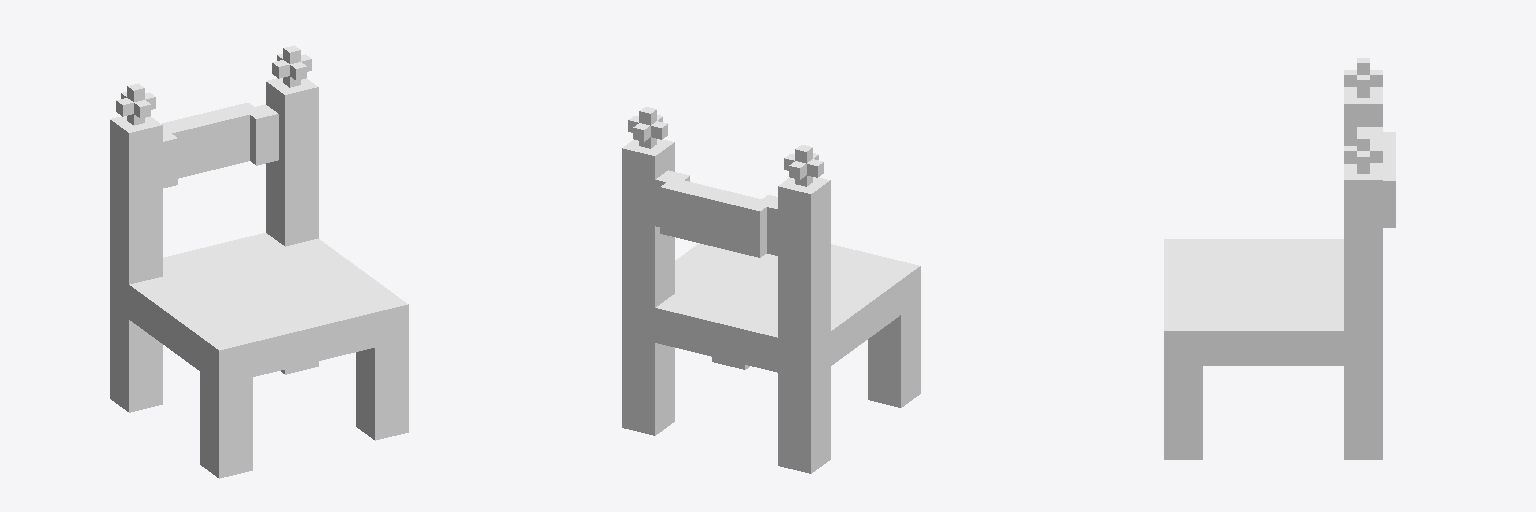
Rendered from Chair.obj.
3 views of the same model, side by side, from view 1: azimuth 30°, elevation 25°; view 2: azimuth 150°, elevation 25°; view 3: azimuth 270°, elevation 25° (orthographic).
Bounding box in the file's own units: 17 × 27 × 18.